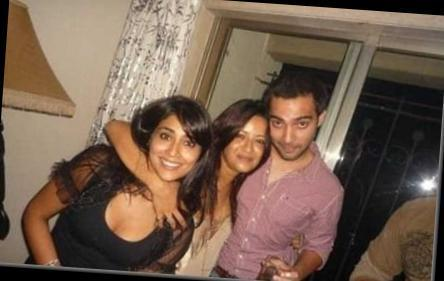Drunk: (151, 113, 198, 178), (271, 100, 313, 158), (228, 116, 264, 171)
